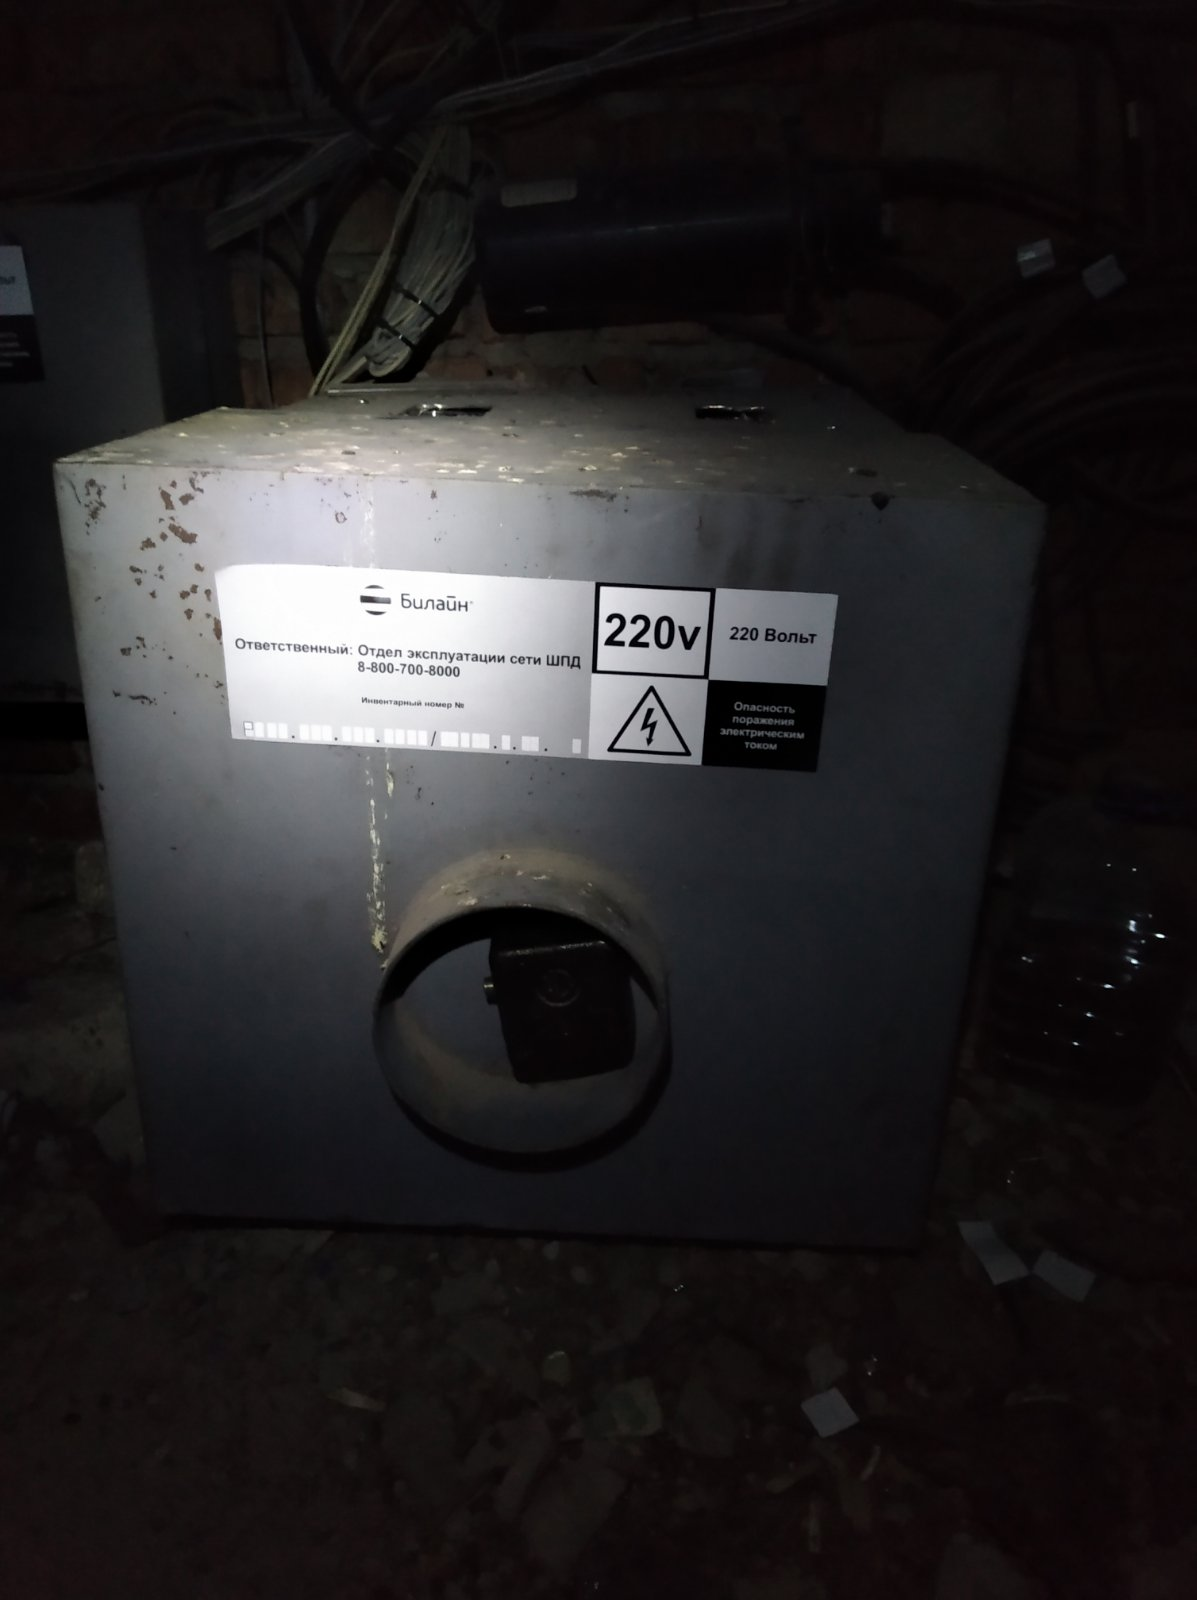shta-9: (50, 352, 1066, 1279)
